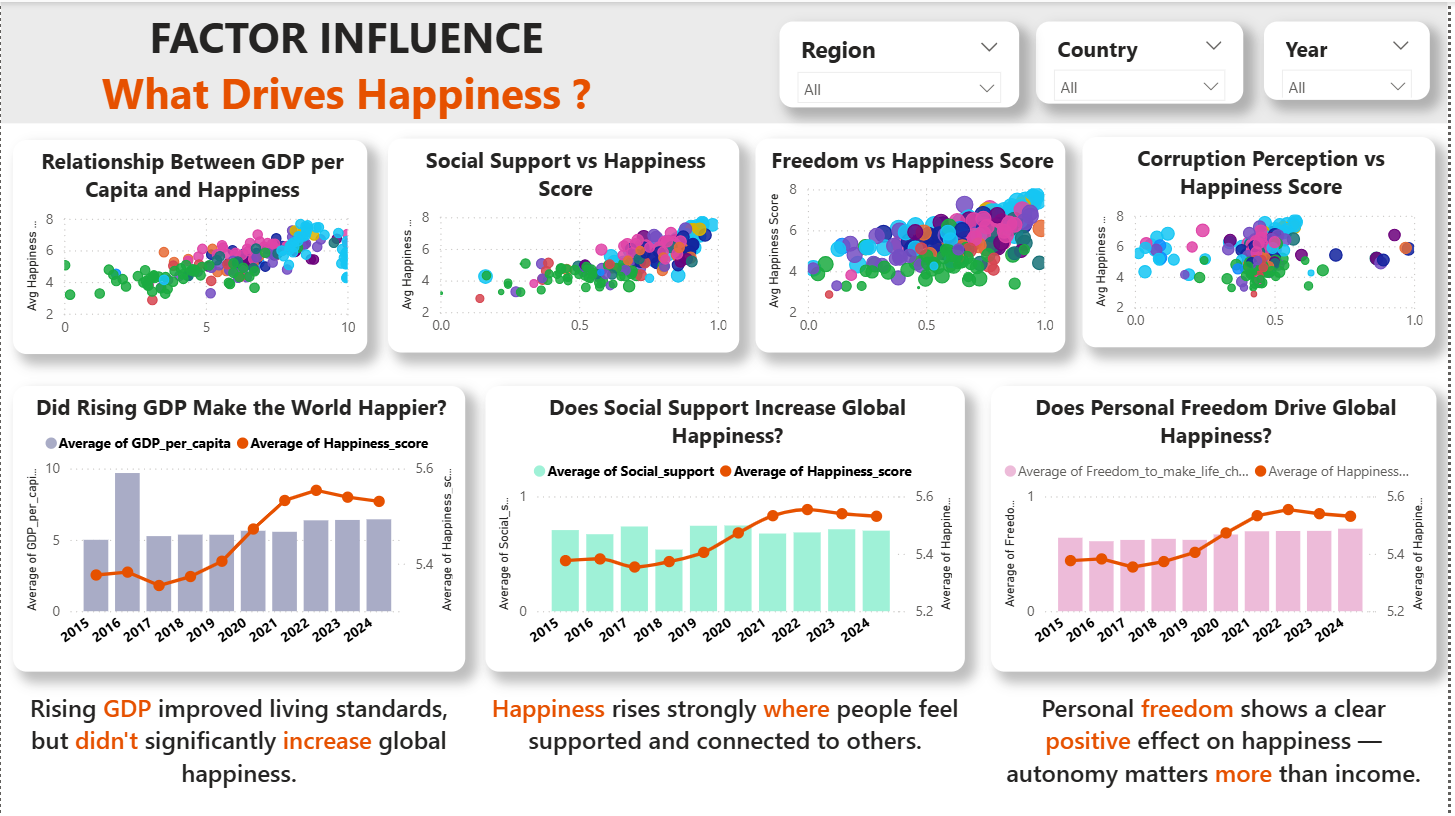

The page's visual inventory and layout, read from the dashboard file:
{"tool":"powerbi","page":{"name":"🔍 Global Factors","canvas":[1280,720],"ordinal":3},"visuals":[{"type":"scatterChart","title":"Relationship Between GDP per Capita and Happiness","fields":{"X":["Avg(Fact_Happiness.GDP_per_capita)"],"Y":["Measure_Table.Avg Happiness Score"],"Series":["Fact_Happiness.Regional_indicator"],"Category":["Fact_Happiness.Country"]},"box":[10.6,122.7,313.4,189.3],"z":0},{"type":"shape","box":[0,0,1279.5,107.5],"z":1000},{"type":"slicer","fields":{"Values":["Fact_Happiness.Country"]},"box":[916.1,16.7,183.2,72.7],"z":2000},{"type":"slicer","fields":{"Values":["Fact_Egypt.Year"]},"box":[1117.5,16.7,146.9,69.7],"z":3000},{"type":"textbox","box":[77.2,0,457.3,119.6],"z":4000},{"type":"scatterChart","title":"Social Support vs Happiness Score","fields":{"Y":["Measure_Table.Avg Happiness Score"],"Series":["Fact_Happiness.Regional_indicator"],"Category":["Fact_Happiness.Country"],"X":["Measure_Table.Avg Social Support"],"Size":["Measure_Table.Avg GDP per Capita"]},"box":[342.2,121.1,310.4,189.3],"z":5000},{"type":"scatterChart","title":"Freedom vs Happiness Score","fields":{"Y":["Measure_Table.Avg Happiness Score"],"Series":["Fact_Happiness.Regional_indicator"],"Size":["Measure_Table.Avg Social Support"],"Category":["Fact_Happiness.Country"],"X":["Measure_Table.Avg Freedom"]},"box":[667.8,121.1,274.1,189.3],"z":6000},{"type":"scatterChart","title":"Corruption Perception vs Happiness Score","fields":{"Y":["Measure_Table.Avg Happiness Score"],"Series":["Fact_Happiness.Regional_indicator"],"Size":["Measure_Table.Avg Social Support"],"Category":["Fact_Happiness.Country"],"X":["Measure_Table.Avg Corruption Perception"]},"box":[957,119.6,311.9,186.2],"z":7000},{"type":"slicer","fields":{"Values":["Fact_Happiness.Regional_indicator"]},"box":[689,16.7,212,75.7],"z":8000},{"type":"lineStackedColumnComboChart","title":"Did Rising GDP Make the World Happier?","fields":{"Category":["Fact_Happiness.Year"],"Y":["Avg(Fact_Happiness.GDP_per_capita)"],"Y2":["Avg(Fact_Happiness.Happiness_score)"]},"box":[10.6,339.2,399.8,252.9],"z":9000},{"type":"lineStackedColumnComboChart","title":"Does Social Support Increase Global Happiness?","fields":{"Category":["Fact_Happiness.Year"],"Y":["Avg(Fact_Happiness.Social_support)"],"Y2":["Avg(Fact_Happiness.Happiness_score)"]},"box":[428.5,339.2,424,252.9],"z":10000},{"type":"lineStackedColumnComboChart","title":"Does Personal Freedom Drive Global Happiness?","fields":{"Category":["Fact_Happiness.Year"],"Y":["Avg(Fact_Happiness.Freedom_to_make_life_choices)"],"Y2":["Avg(Fact_Happiness.Happiness_score)"]},"box":[875.2,339.2,393.7,252.9],"z":11000},{"type":"textbox","box":[10.6,604.2,399.8,115.1],"z":12000},{"type":"textbox","box":[428.5,604.2,424,87.8],"z":13000},{"type":"textbox","box":[875.2,604.2,393.7,103],"z":14000}]}

Visuals, with their boxes in screenshot pixels (x1, y1, x2, y2), scaled from the page's 1280x720 canvas onto the 1455x816 screenshot:
"Relationship Between GDP per Capita and Happiness" scatterChart: 12, 139, 368, 354
shape: 0, 0, 1454, 122
slicer - Fact_Happiness.Country: 1041, 19, 1250, 101
slicer - Fact_Egypt.Year: 1270, 19, 1437, 98
textbox: 88, 0, 608, 136
"Social Support vs Happiness Score" scatterChart: 389, 137, 742, 352
"Freedom vs Happiness Score" scatterChart: 759, 137, 1071, 352
"Corruption Perception vs Happiness Score" scatterChart: 1088, 136, 1442, 347
slicer - Fact_Happiness.Regional_indicator: 783, 19, 1024, 105
"Did Rising GDP Make the World Happier?" lineStackedColumnComboChart: 12, 384, 467, 671
"Does Social Support Increase Global Happiness?" lineStackedColumnComboChart: 487, 384, 969, 671
"Does Personal Freedom Drive Global Happiness?" lineStackedColumnComboChart: 995, 384, 1442, 671
textbox: 12, 685, 467, 815
textbox: 487, 685, 969, 784
textbox: 995, 685, 1442, 801
